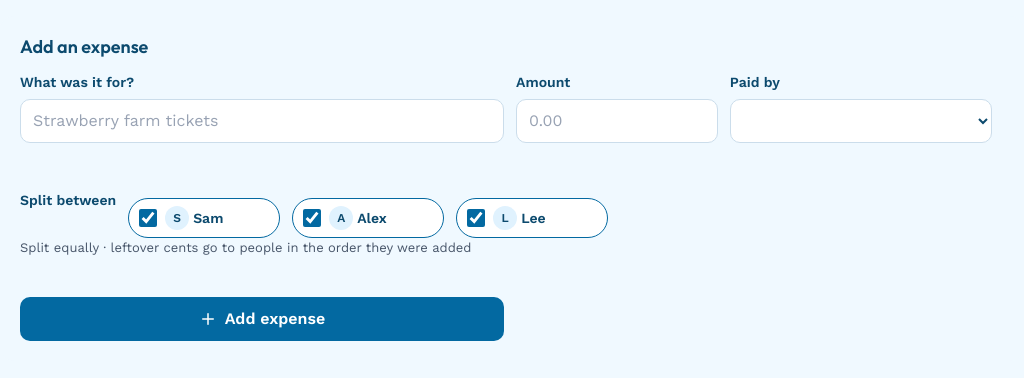
Test: AddExpenseFormComponent › refuses an empty amount with the exact copy and sends nothing (F4.R3)
The image size is (1024, 378).
Type "Dinner" into the field labelled "What was it for?" at (262, 121), box [20,99,504,143]
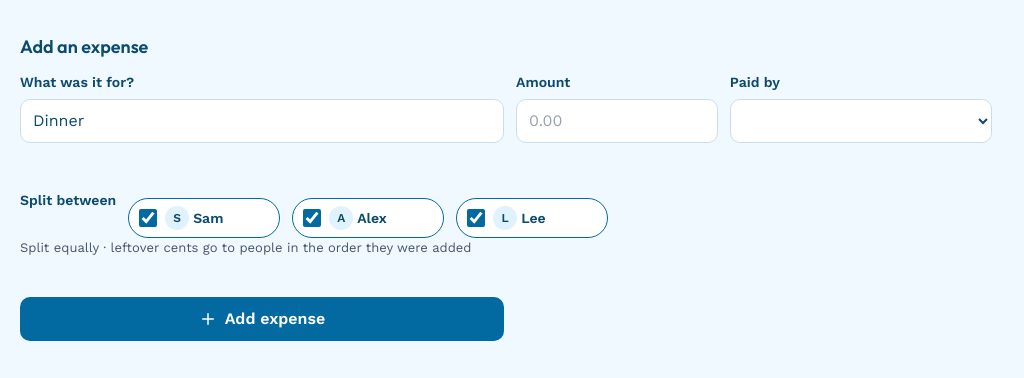
Type "10.50" into the field labelled "Amount" at (617, 121), box [516,99,718,143]
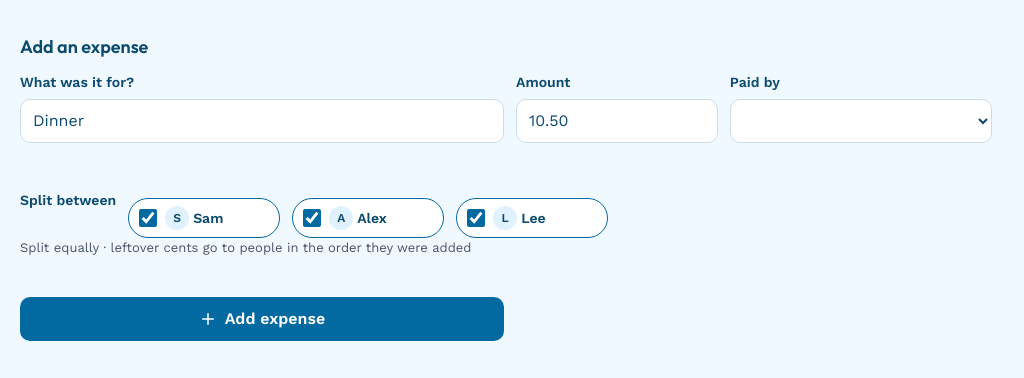
Select "Sam" in the dropdown labelled "Paid by" at (861, 121), box [730,99,992,143]
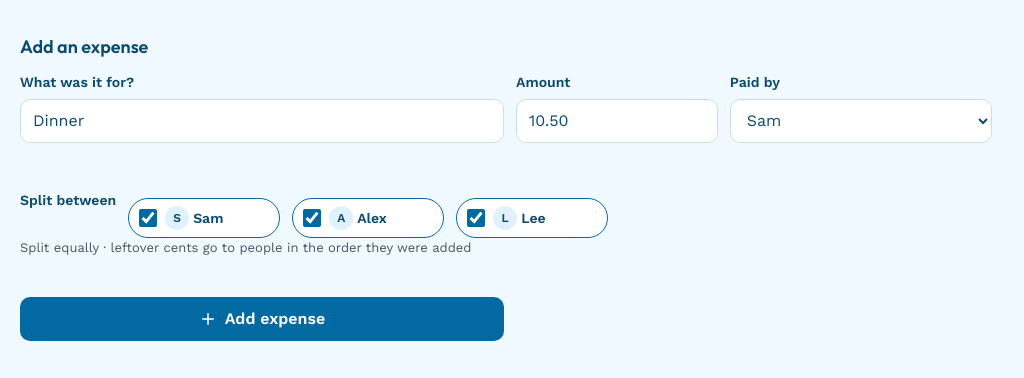
Clear the field labelled "Amount" at (617, 121), box [516,99,718,143]
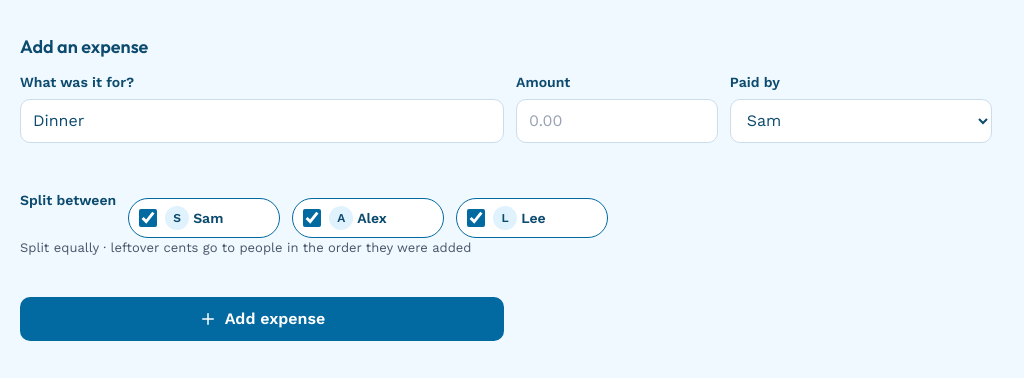
Submit the form
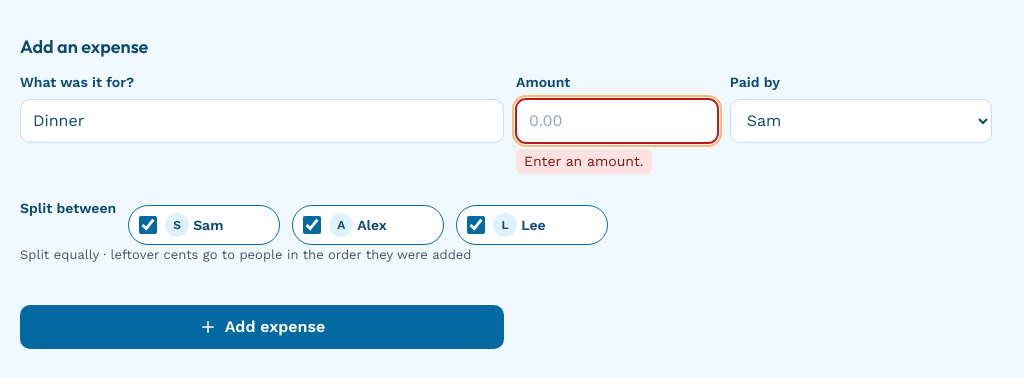
Result: the text "Enter an amount." is shown at [516,149,652,174]
